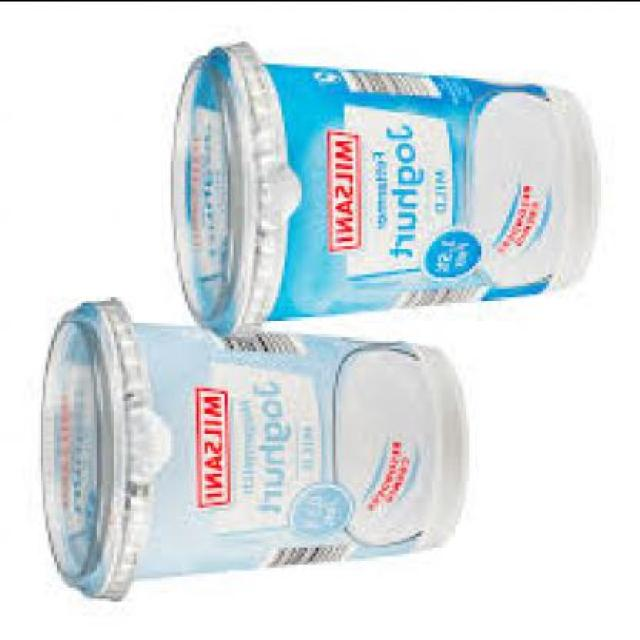PLASTIC: (37, 298, 461, 600), (168, 37, 595, 332), (35, 295, 162, 600), (168, 37, 295, 332)
